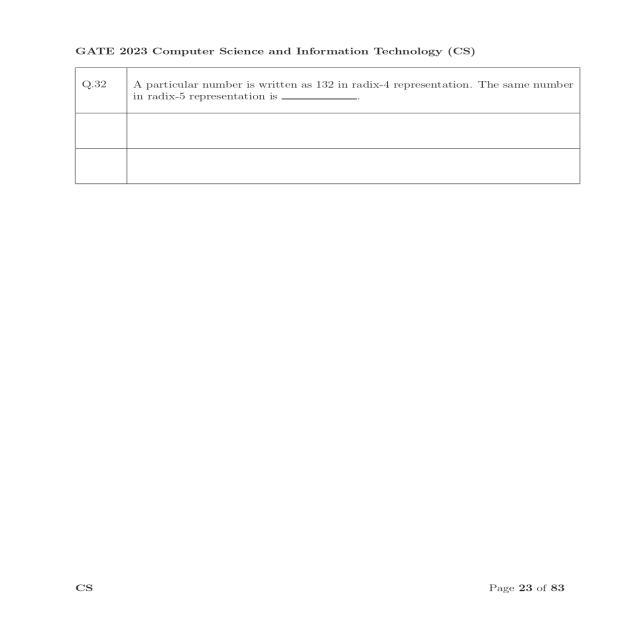Question_Answer_Block: (73, 68, 582, 182)
Question_Block: (74, 67, 580, 115)
Question_Paper_Area: (72, 42, 580, 185)
